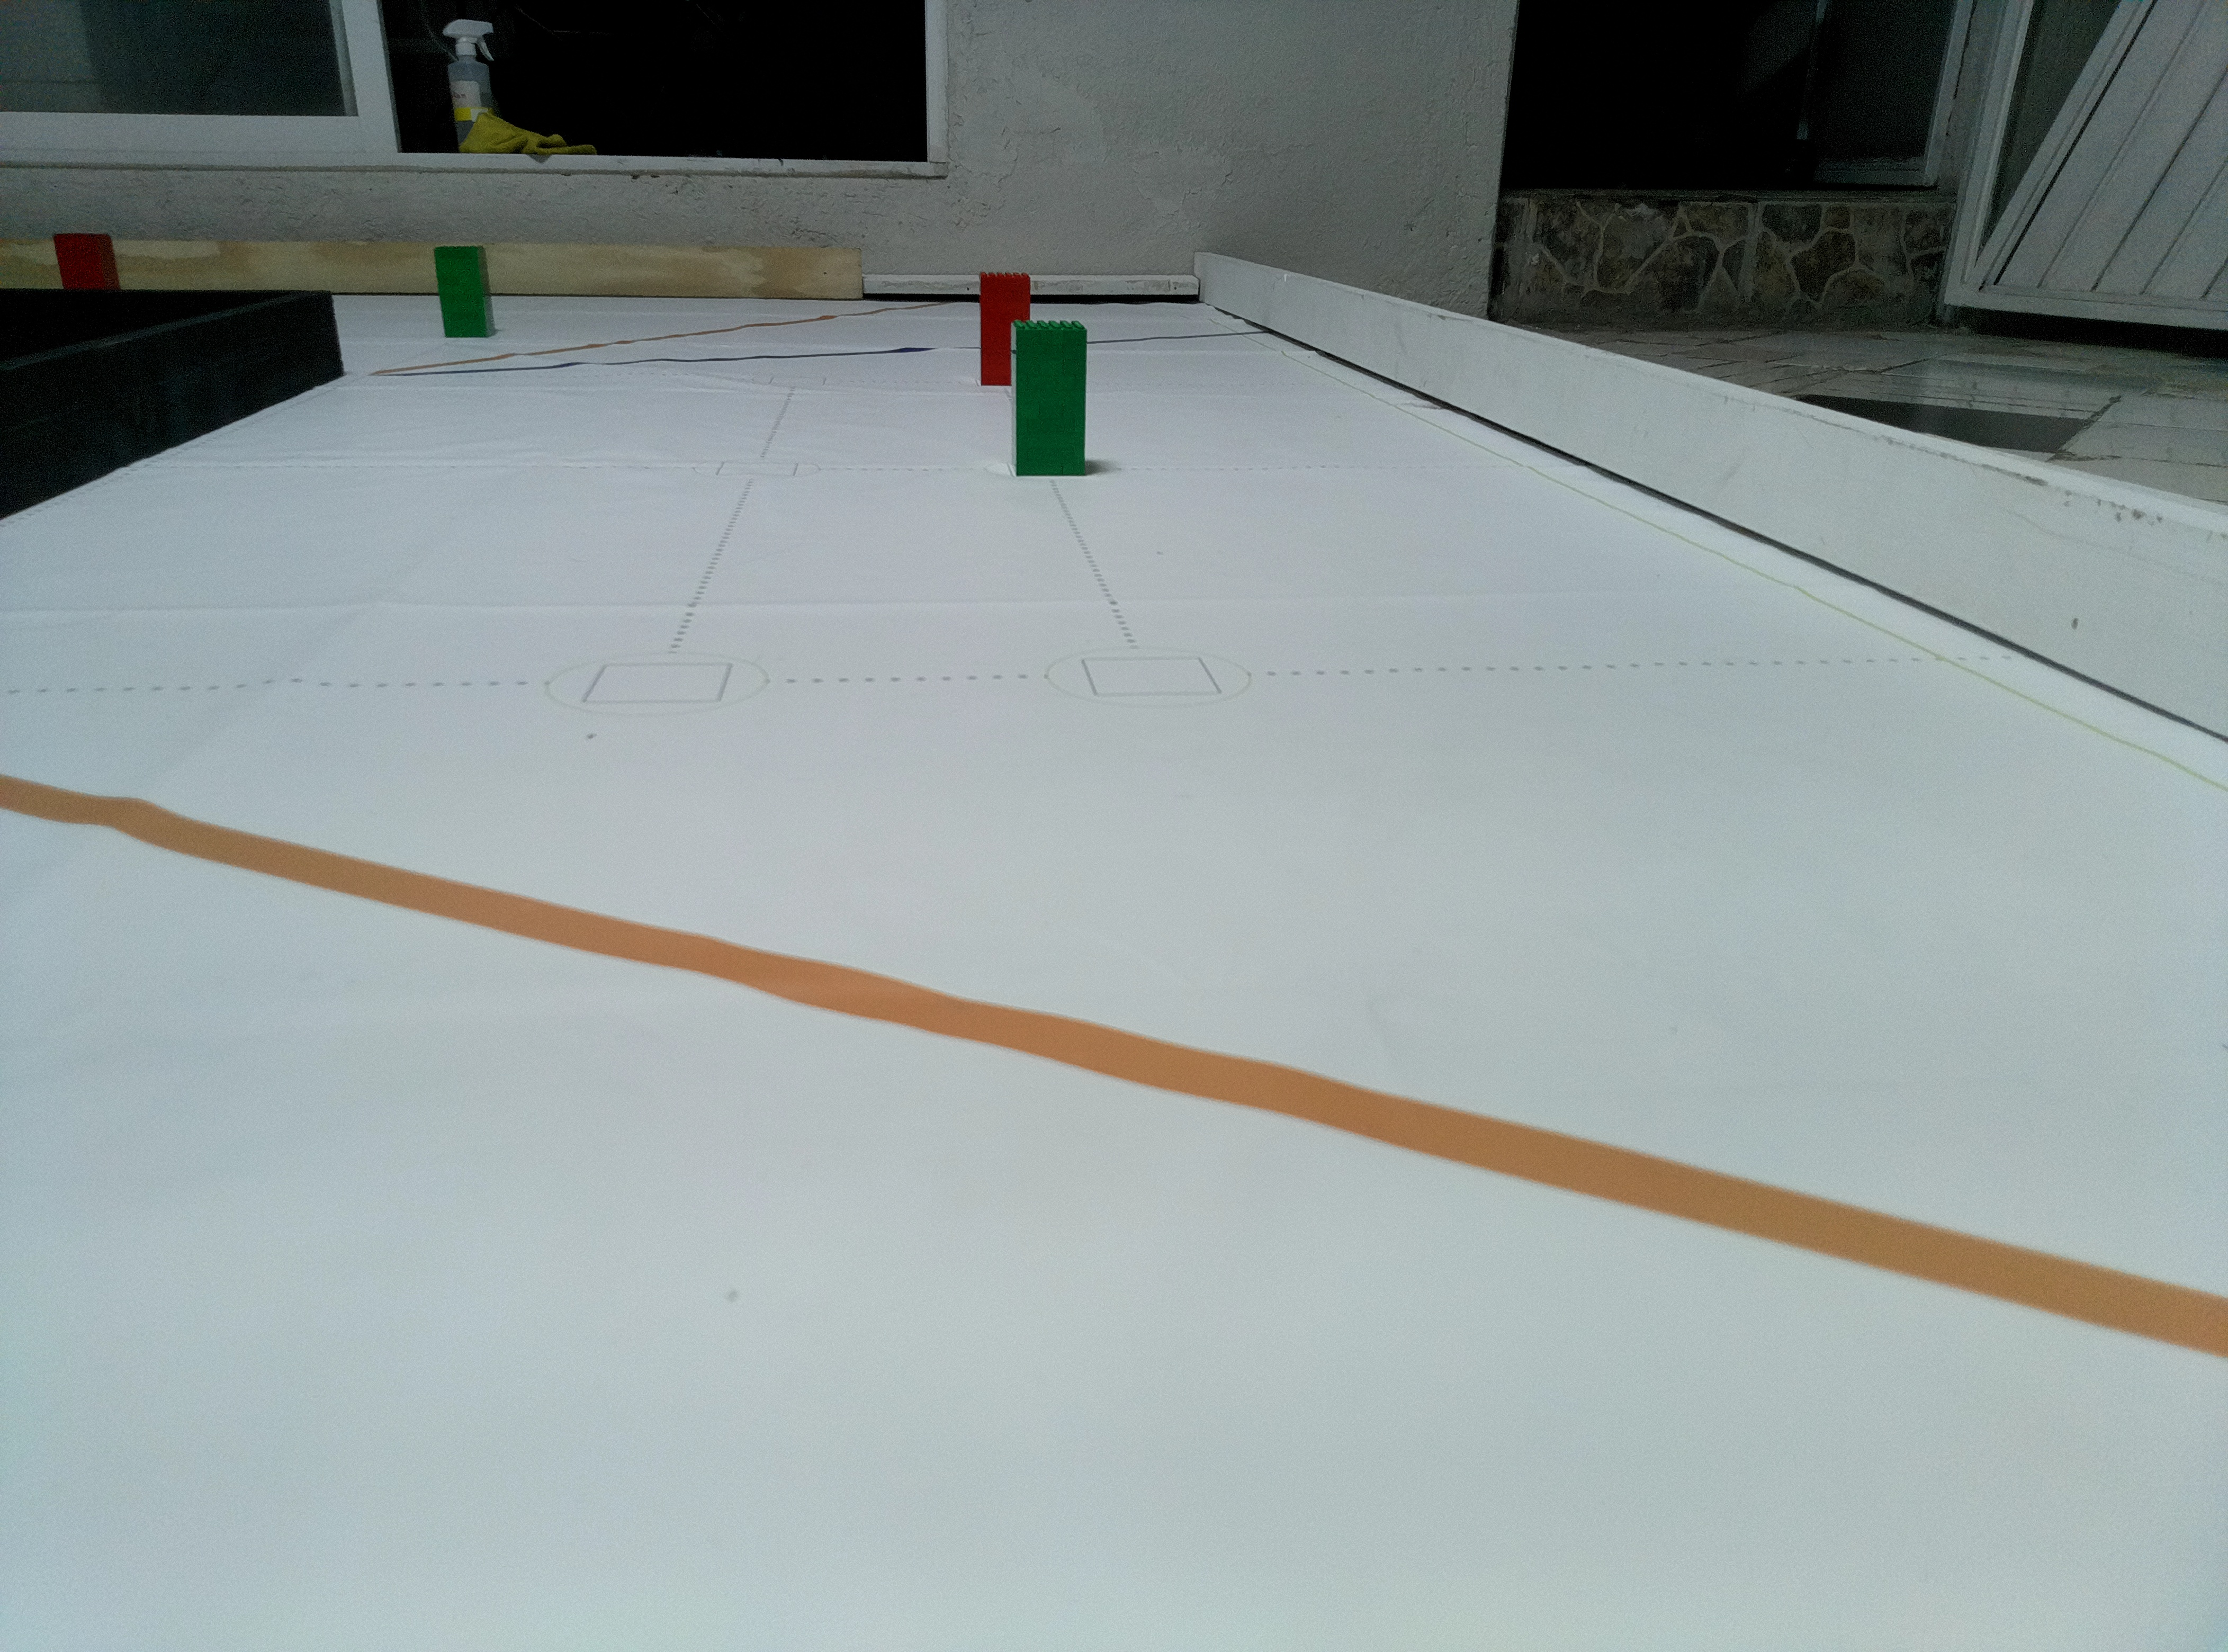greenbox: (1006, 318, 1090, 479), (432, 245, 498, 338)
redbox: (975, 269, 1032, 387), (52, 233, 125, 288)
